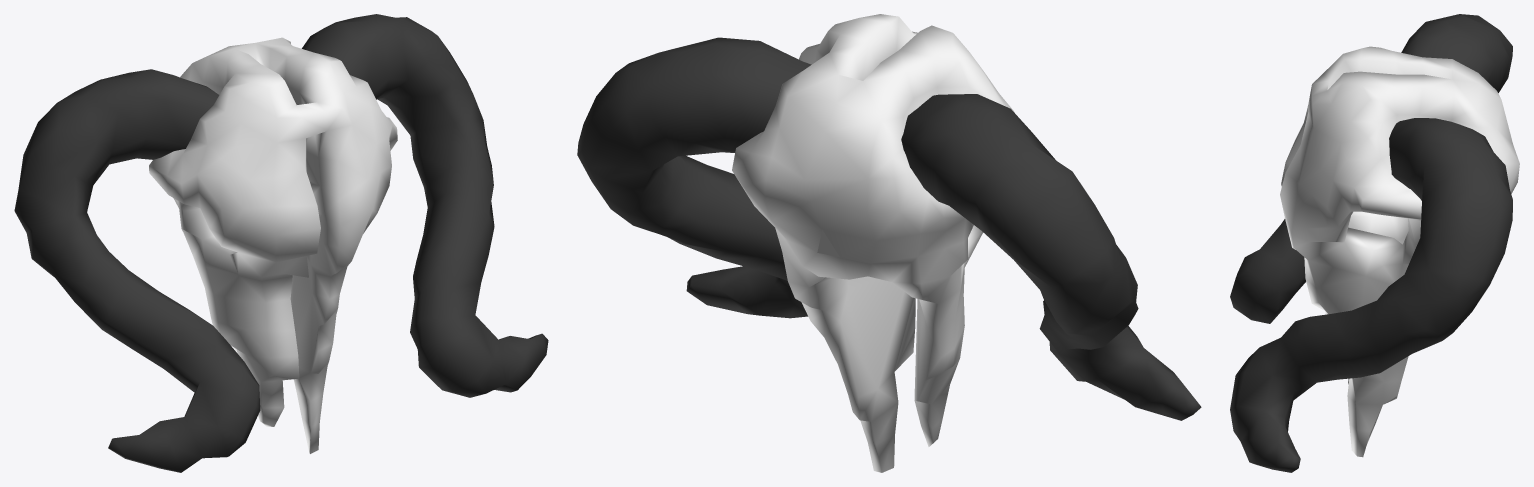
Rendered from Scull.fbx.
3 renders of one model, left to right at view 1: azimuth 30°, elevation 25°; view 2: azimuth 150°, elevation 25°; view 3: azimuth 270°, elevation 25°, orthographic. The views are drawn at different scales.
Visible parts, largest first — view 1: Circle.008; view 2: Circle.008; view 3: Circle.008.
Part boxes in pixels (x1,y1,x2,y2): Circle.008: [14, 14, 548, 472]; Circle.008: [577, 14, 1201, 472]; Circle.008: [1230, 14, 1519, 472].
Bounding box in the file's own units: 140 × 113 × 78.
